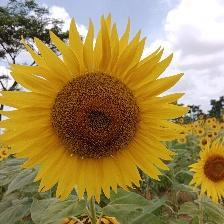sunflower: (1, 13, 197, 206), (194, 144, 224, 202), (201, 138, 211, 151), (1, 151, 12, 161), (196, 128, 206, 138), (207, 133, 216, 142), (211, 125, 220, 132), (205, 118, 212, 126), (179, 138, 187, 145), (212, 130, 220, 136), (196, 124, 201, 132), (212, 118, 217, 125), (180, 118, 185, 125), (200, 113, 205, 120), (221, 123, 224, 133), (183, 126, 188, 131), (188, 130, 193, 135), (191, 126, 195, 130)
